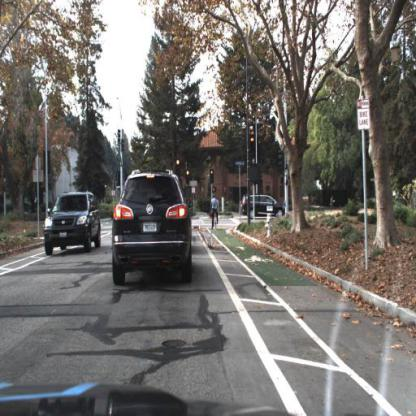biker: (211, 193, 219, 227)
car: (111, 169, 194, 287), (41, 188, 103, 258), (240, 193, 290, 222), (239, 192, 286, 220)
trafficLight-Red: (248, 134, 258, 157), (250, 135, 257, 159), (176, 157, 181, 173), (186, 169, 191, 185), (210, 170, 215, 184)
